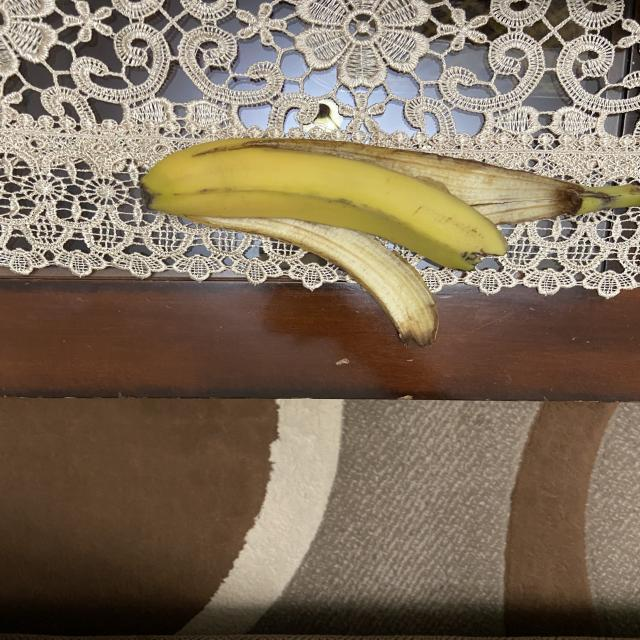banana-peel: (138, 134, 637, 348), (139, 136, 508, 272), (179, 213, 439, 348)
